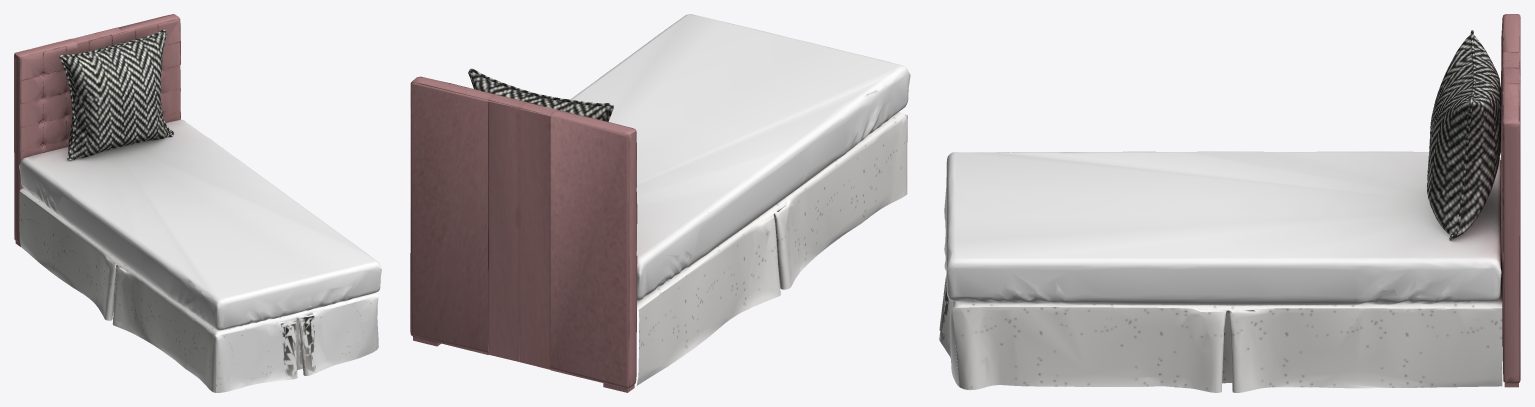
File: raw_model.obj
3 renders of one model, left to right at view 1: azimuth 30°, elevation 25°; view 2: azimuth 150°, elevation 25°; view 3: azimuth 270°, elevation 25°, orthographic. The views are drawn at different scales.
Parts seen in each view (by area): view 1: solid_002, solid_001, solid_003, solid_004; view 2: solid_004, solid_002, solid_001, solid_003; view 3: solid_002, solid_001, solid_003, solid_004.
Part boxes in pixels (bbox=[...]): solid_002: bbox=[19, 119, 381, 330]; solid_001: bbox=[19, 188, 378, 392]; solid_003: bbox=[59, 29, 173, 160]; solid_004: bbox=[14, 14, 180, 246]; solid_004: bbox=[410, 76, 637, 392]; solid_002: bbox=[488, 14, 910, 300]; solid_001: bbox=[636, 112, 907, 385]; solid_003: bbox=[468, 68, 613, 121]; solid_002: bbox=[944, 151, 1501, 305]; solid_001: bbox=[939, 274, 1502, 392]; solid_003: bbox=[1427, 30, 1501, 240]; solid_004: bbox=[1500, 14, 1520, 387].
Bounding box in the file's own units: 0.9999 × 1.04 × 2.01.
Materials: 1 (1 with a texture image).
